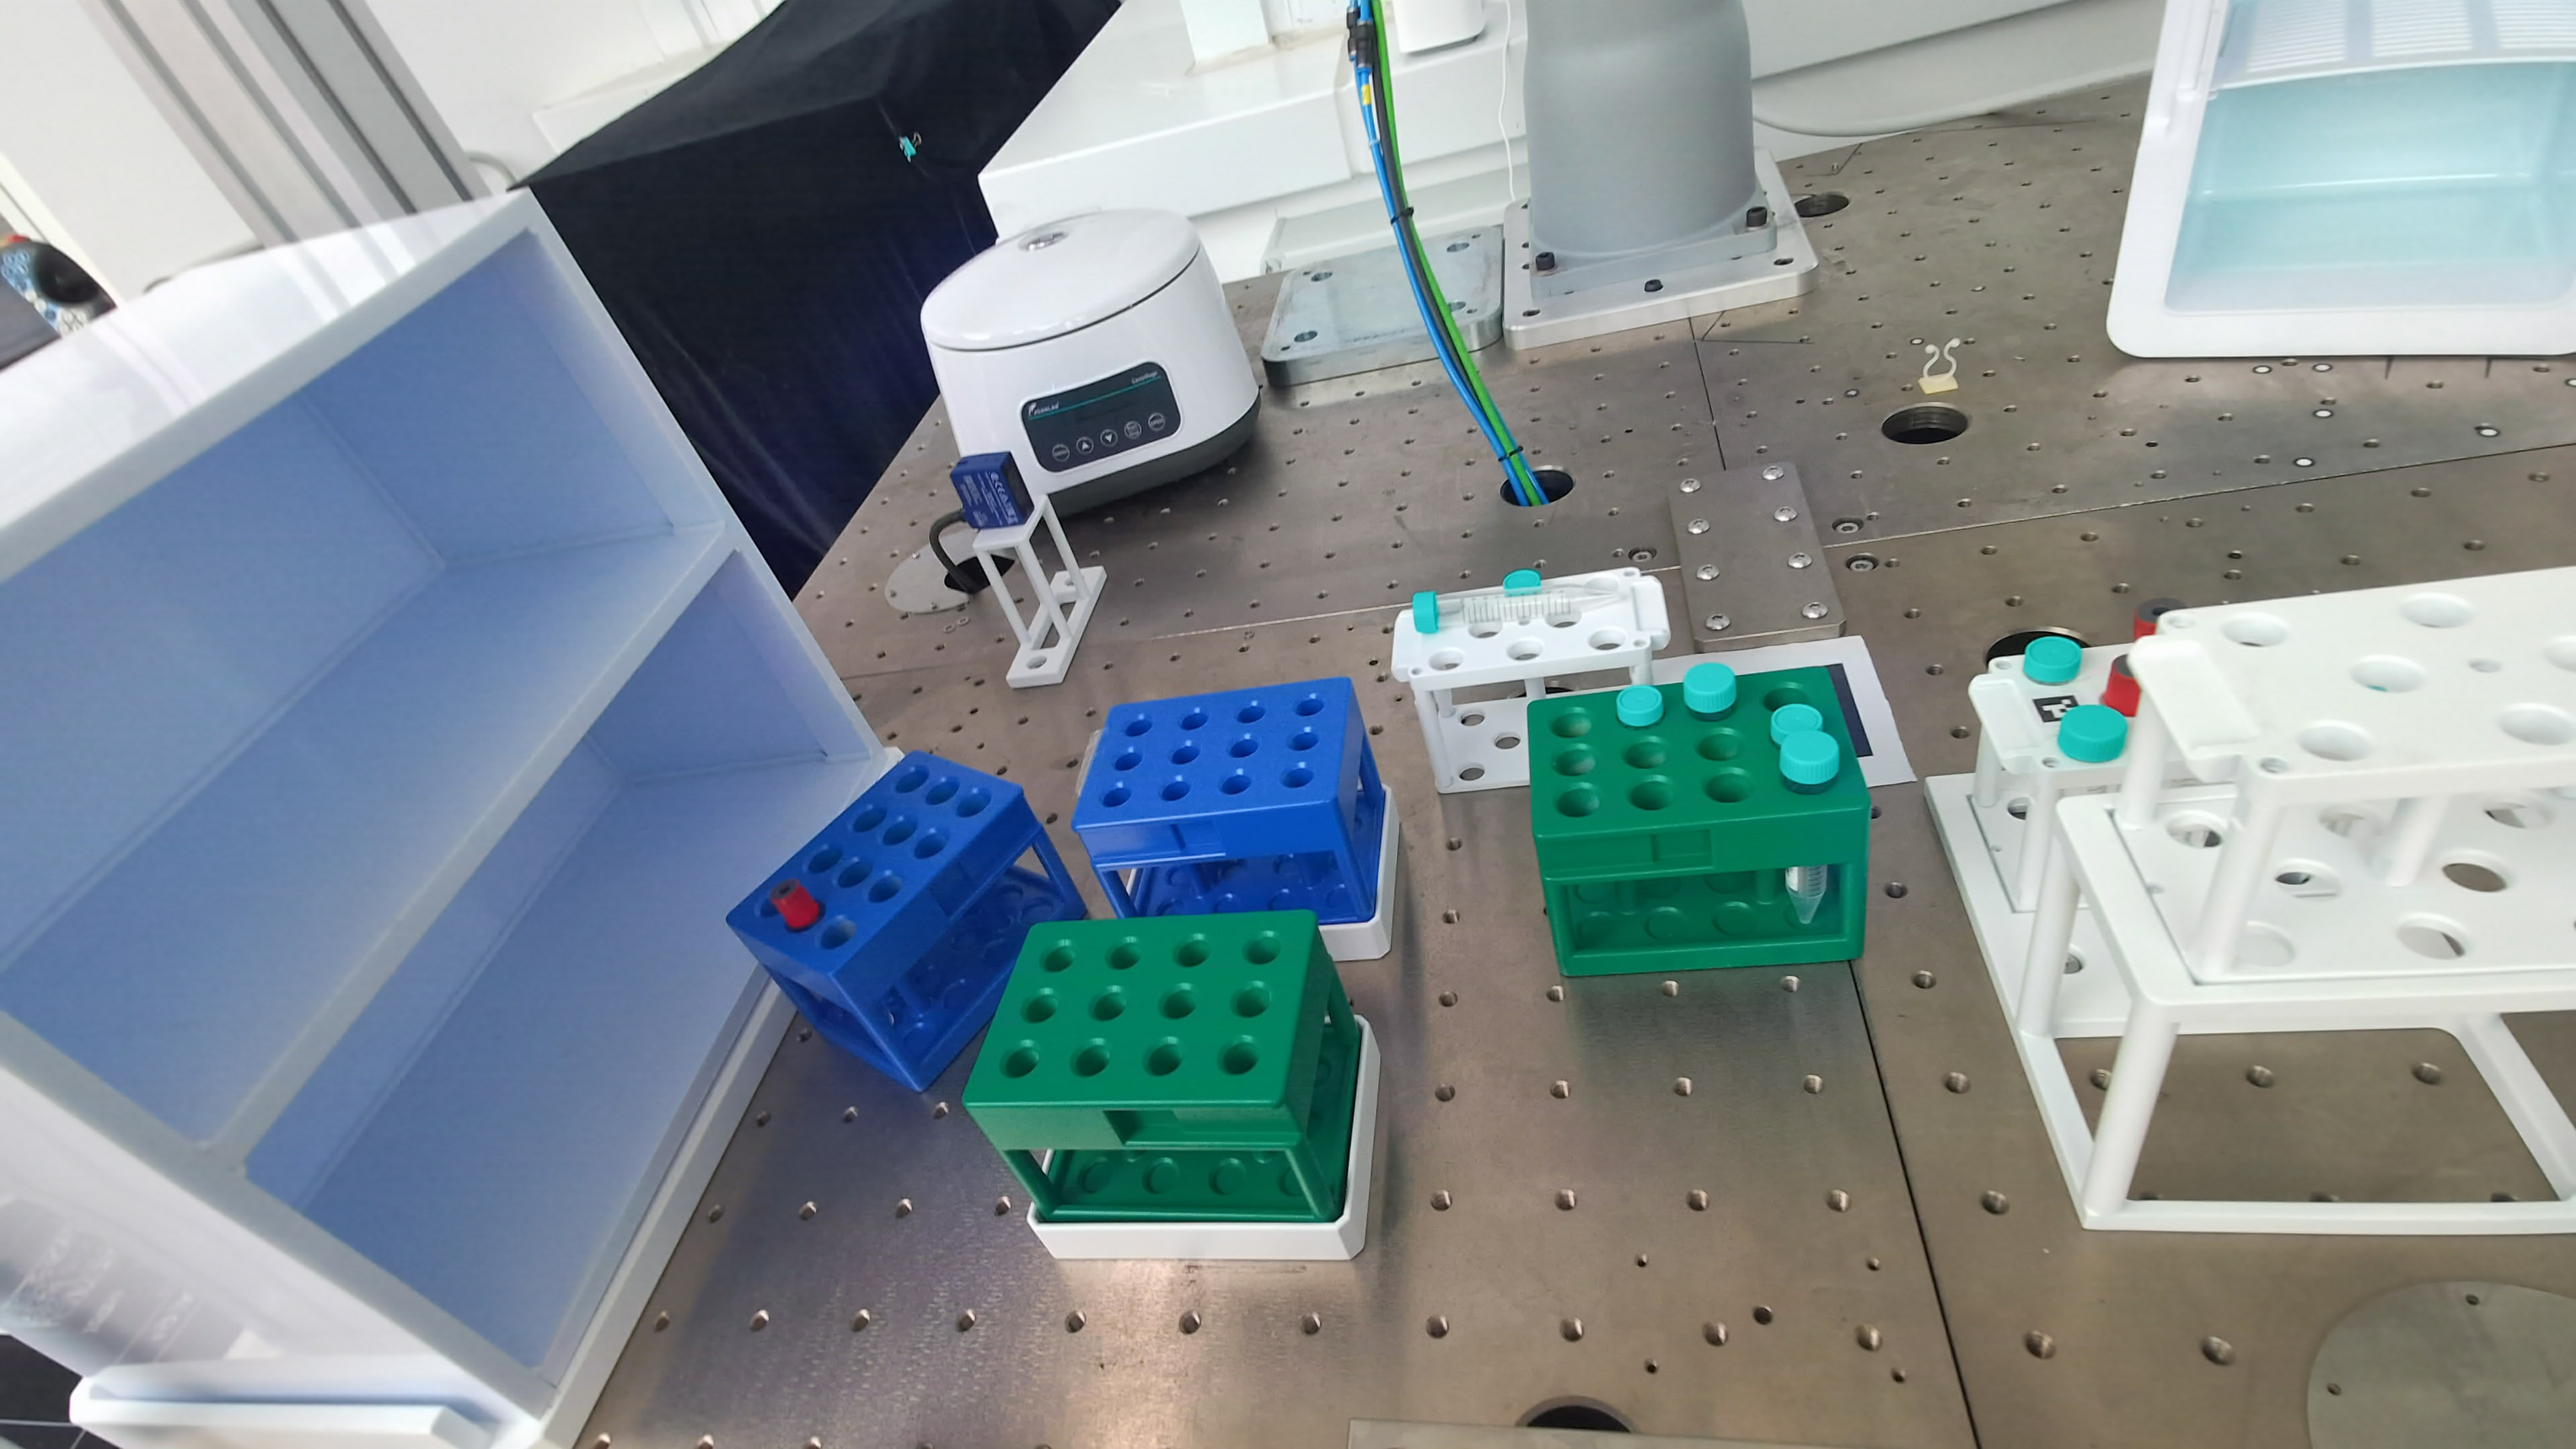10ML_centrifuge_tube: (1414, 573, 1665, 639), (1780, 731, 1840, 791), (1683, 662, 1737, 717)
10ML_sorting_tube_rack: (727, 755, 1085, 1088), (1072, 678, 1385, 924)
5ML_centrifuge_tube: (2022, 635, 2082, 685), (1769, 702, 1824, 745), (1615, 685, 1663, 727), (1504, 570, 1543, 594)
5ML_sorting_tube_rack: (964, 911, 1361, 1221), (1529, 667, 1870, 975)
blood_tube: (2102, 598, 2181, 718), (770, 879, 823, 931)
centrifuge_close: (922, 209, 1258, 515)
dispensing_tube_rack: (1928, 568, 2576, 1233), (1392, 570, 1670, 793)
refrigerator_open: (2166, 0, 2576, 311)
sorting_tube_rack_base: (1028, 1019, 1380, 1261), (1320, 787, 1401, 961)
tube_rack_storage_cabinet: (0, 196, 885, 1435)
